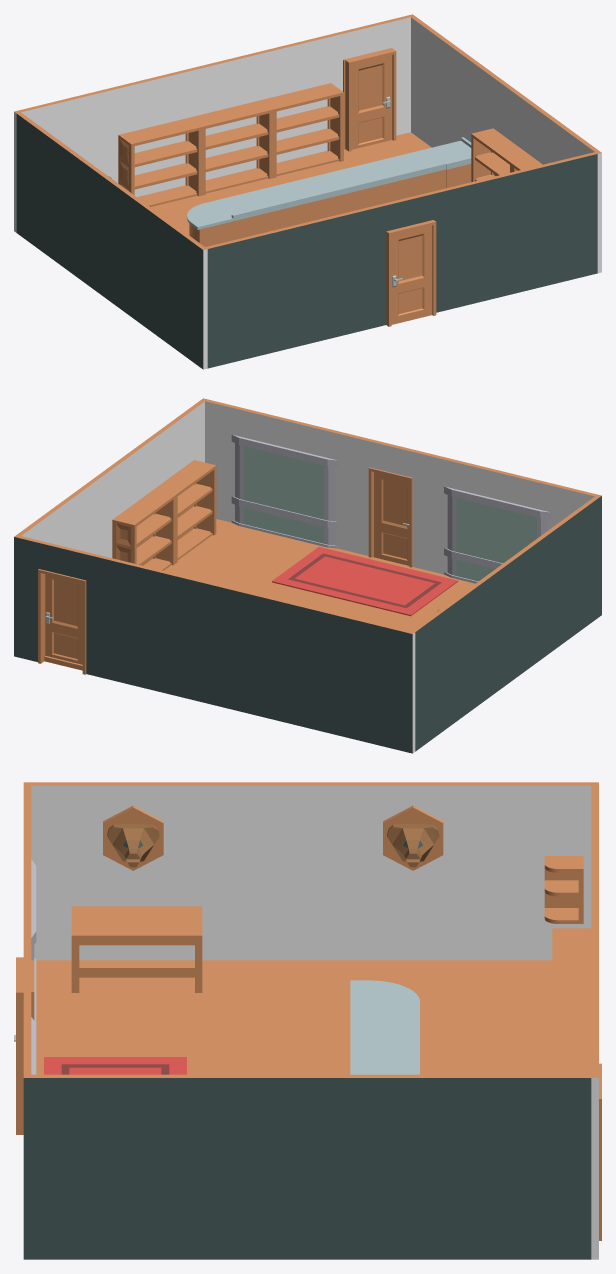
Rendered from boulangerie_finie.fbx.
3 views of the same model, one above another, from view 1: azimuth 30°, elevation 25°; view 2: azimuth 150°, elevation 25°; view 3: azimuth 270°, elevation 25° (orthographic). The views are drawn at different scales.
Parts seen in each view (by area): view 1: wall_76, wall_86, wall_81, wall_97, wall_82, wall_85, wall_90, wall_84, wallDoorway_75, wall_83, wall_96, wallDoorway_95 (+23 smaller); view 2: wall_97, wall_91, wall_96, wall_skyscraperGlassDivider%_3, wallDoorway_95, wallDoorway_75, wall_82, rugRectangle_101, wall_skyscraperGlassDivider%_4, wall_84, wall_83, bookcaseClosedWide_103 (+19 smaller); view 3: wall_87, wall_88, wall_89, wall_90, wall_83, wall_84, wall_82, wall_92, floorFull_57, floorFull_47, table_100, floorFull_60 (+21 smaller).
Boxes of the visible parts, <box> form: wall_76: <box>276,208,367,350</box>; wall_86: <box>509,152,597,294</box>; wall_81: <box>205,228,296,368</box>; wall_97: <box>189,36,328,180</box>; wall_82: <box>147,208,207,369</box>; wall_85: <box>447,167,534,307</box>; wall_90: <box>411,16,475,147</box>; wall_84: <box>47,135,102,292</box>; wallDoorway_75: <box>365,186,455,329</box>; wall_83: <box>98,172,153,327</box>; wall_96: <box>103,66,202,196</box>; wallDoorway_95: <box>316,14,414,152</box>; wall_97: <box>98,556,240,711</box>; wall_91: <box>315,608,415,753</box>; wall_96: <box>226,587,323,729</box>; wall_skyscraperGlassDivider%_3: <box>231,434,338,548</box>; wallDoorway_95: <box>14,535,113,679</box>; wallDoorway_75: <box>347,434,437,572</box>; wall_82: <box>542,494,601,655</box>; rugRectangle_101: <box>272,547,457,616</box>; wall_skyscraperGlassDivider%_4: <box>444,486,550,583</box>; wall_84: <box>442,571,496,728</box>; wall_83: <box>493,535,545,691</box>; bookcaseClosedWide_103: <box>112,490,175,570</box>; wall_87: <box>23,1074,194,1259</box>; wall_88: <box>179,1074,350,1259</box>; wall_89: <box>319,1074,489,1259</box>; wall_90: <box>404,1074,591,1259</box>; wall_83: <box>187,782,342,960</box>; wall_84: <box>342,782,497,960</box>; wall_82: <box>23,782,194,960</box>; wall_92: <box>435,782,591,960</box>; floorFull_57: <box>140,960,295,1025</box>; floorFull_47: <box>435,960,552,1025</box>; table_100: <box>71,906,202,992</box>; floorFull_60: <box>187,1026,342,1074</box>.
Bounding box in the file's own units: 45 × 12.9 × 37.82.
